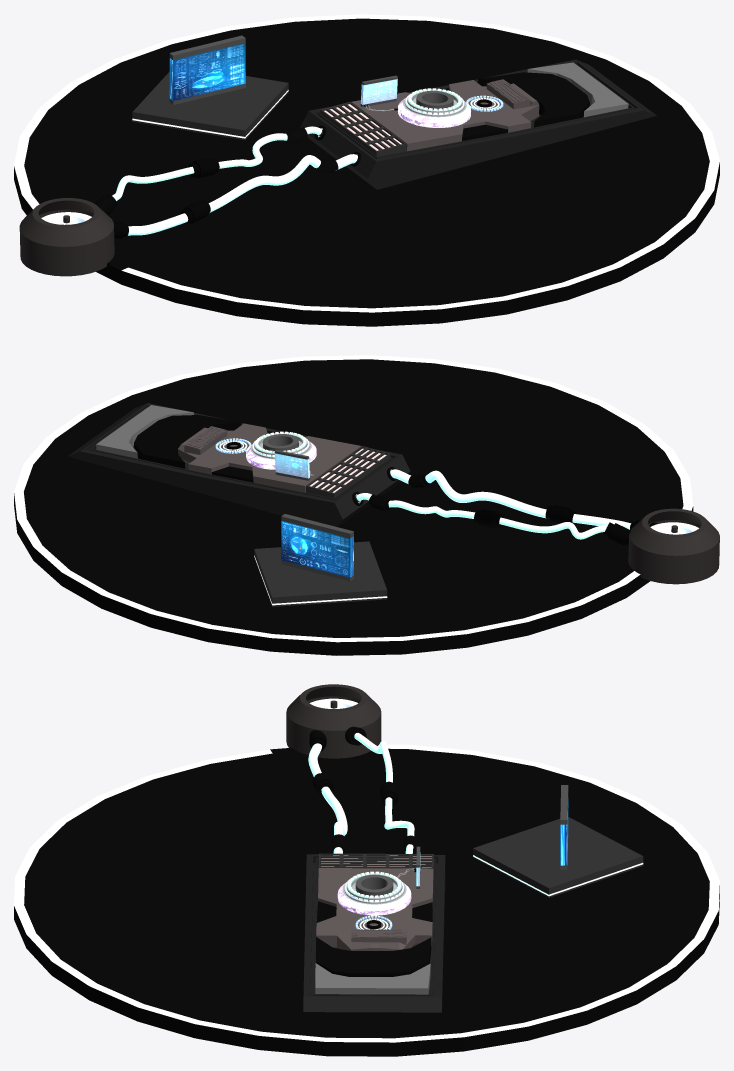
The model's file is hologram_emitter.glb.
3 renders of one model, top to bottom at view 1: azimuth 30°, elevation 25°; view 2: azimuth 150°, elevation 25°; view 3: azimuth 270°, elevation 25°, orthographic. The views are drawn at different scales.
Parts seen in each view (by area): view 1: Cylinder.012_42, Cube.003_10, Cylinder.004_34, Cube.011_86, Cube.006_13, screen.001_96, Cube.005_12, NurbsPath.005_89, Cube.007_14, Cube.004_11, NurbsPath.004_88, screen_93 (+5 smaller); view 2: Cylinder.012_42, Cube.003_10, Cylinder.004_34, Cube.011_86, Cube.006_13, screen.001_96, Cube.005_12, NurbsPath.005_89, Cube.007_14, Cube.004_11, NurbsPath.004_88, screen_93 (+3 smaller); view 3: Cylinder.012_42, Cube.011_86, Cube.003_10, Cube.006_13, Cylinder.004_34, Cube.005_12, Cube.004_11, Cube.007_14, NurbsPath.004_88, NurbsPath.005_89, Circle.005_5, Circle.004_4 (+1 smaller).
Boxes of the visible parts, x1,y1,x2,y2 form: Cylinder.012_42: (14,18,719,326); Cube.003_10: (300,59,656,189); Cylinder.004_34: (19,198,114,276); Cube.011_86: (132,72,288,140); Cube.006_13: (351,79,539,151); screen.001_96: (169,43,245,100); Cube.005_12: (477,72,589,127); NurbsPath.005_89: (128,154,357,235); Cube.007_14: (320,102,406,156); Cube.004_11: (527,62,628,117); NurbsPath.004_88: (112,126,321,200); screen_93: (360,79,397,104); Cylinder.012_42: (14,359,693,655); Cube.003_10: (67,403,410,527); Cylinder.004_34: (628,508,719,584); Cube.011_86: (254,541,387,606); Cube.006_13: (178,423,360,492); screen.001_96: (281,521,353,577); Cube.005_12: (134,415,241,468); NurbsPath.005_89: (390,469,631,529); Cube.007_14: (306,446,390,498); Cube.004_11: (96,405,193,458); NurbsPath.004_88: (356,493,607,539); screen_93: (275,453,309,478); Cylinder.012_42: (14,747,719,1056); Cube.011_86: (473,817,643,897); Cube.003_10: (303,854,445,1012); Cube.006_13: (316,868,433,950); Cylinder.004_34: (286,684,381,758); Cube.005_12: (316,937,431,976); Cube.004_11: (315,963,430,994); Cube.007_14: (318,853,433,878); NurbsPath.004_88: (354,733,414,853); NurbsPath.005_89: (308,743,347,853); Circle.005_5: (355,874,393,896); Circle.004_4: (337,882,411,910).
Bounding box in the file's own units: 3.69 × 0.3996 × 3.39.
66 materials, 1 textured.
